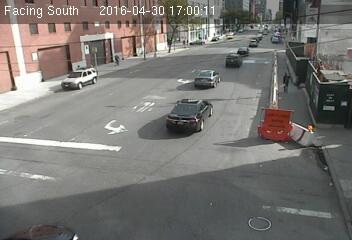neg: (257, 128, 298, 182), (315, 99, 351, 154), (194, 181, 228, 227), (98, 101, 131, 146), (232, 3, 260, 40), (68, 3, 90, 33), (235, 58, 255, 84), (204, 21, 218, 39)
